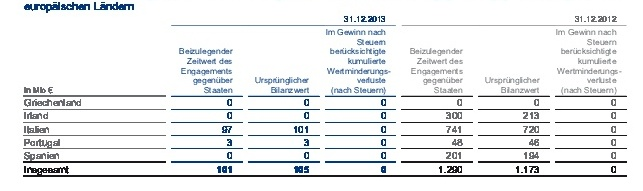table: (0, 0, 643, 191)
